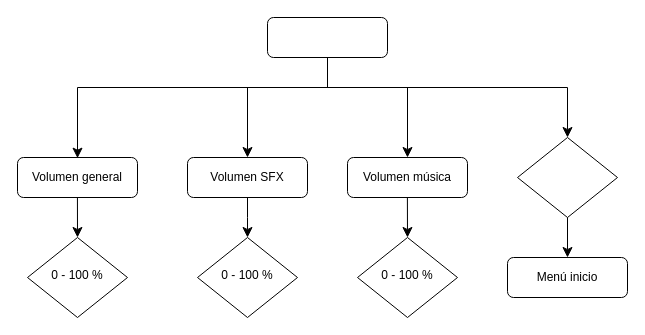
The diagram is 645 pixels wide and 335 high, and some of its shapes have lost their labels. The shapes that lost their labels are listed below. From the top down, each one's centre as x and y in pixels, then its label:
pixel 327 37: Menú de opciones
pixel 567 177: Volver
